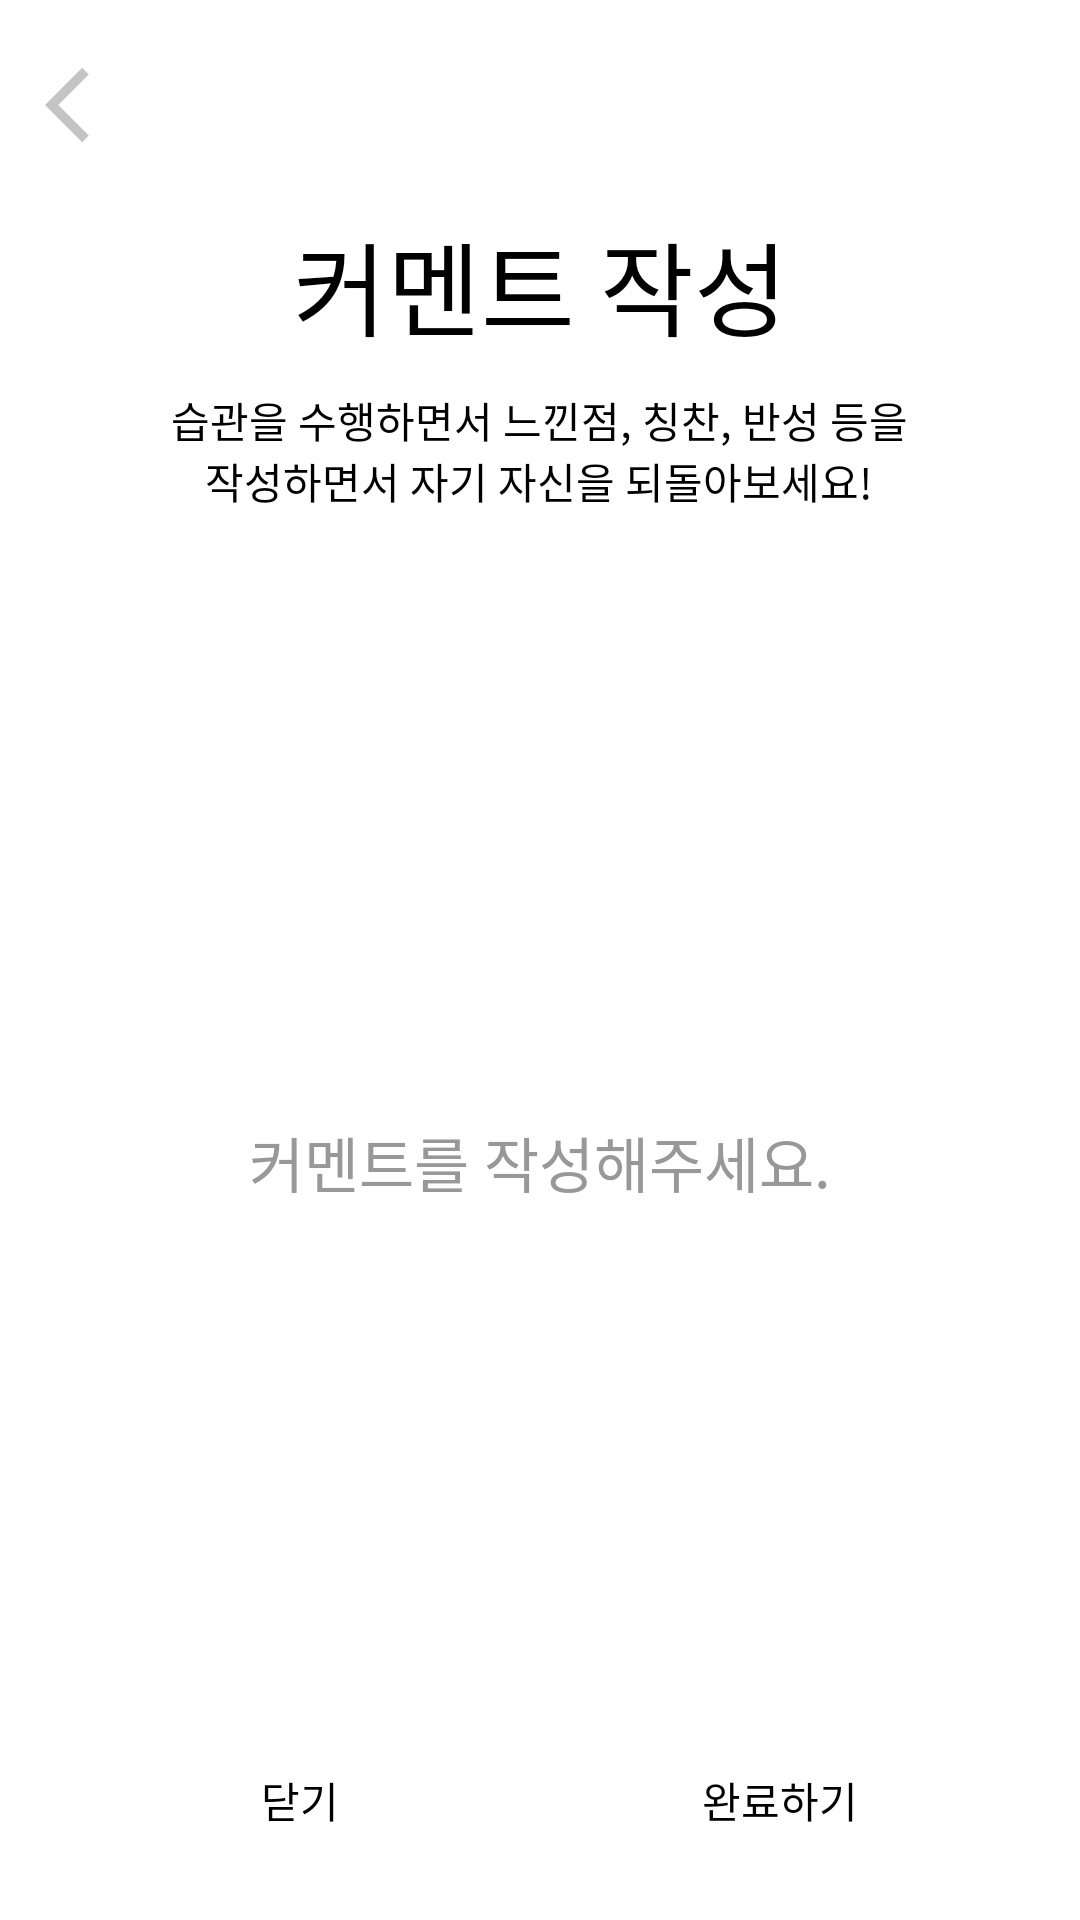

Icon click points for this 1080px x 1920px phone screenshot, format [x,y]:
back: [67,105]
